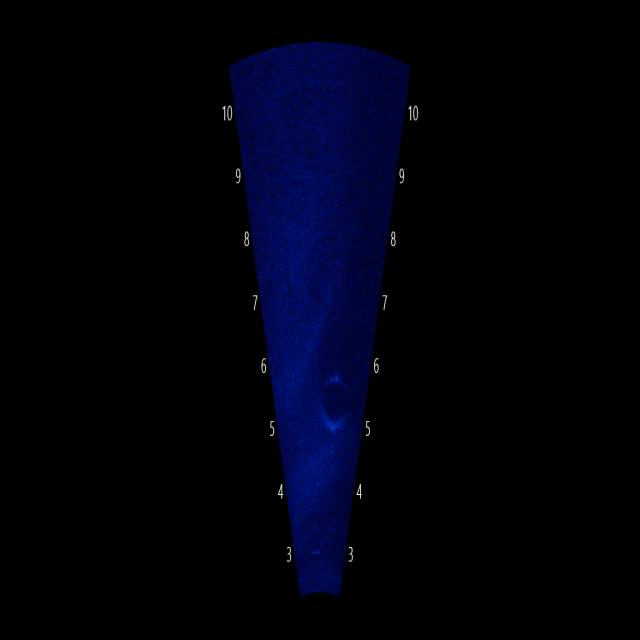circle: (310, 352, 362, 438)
